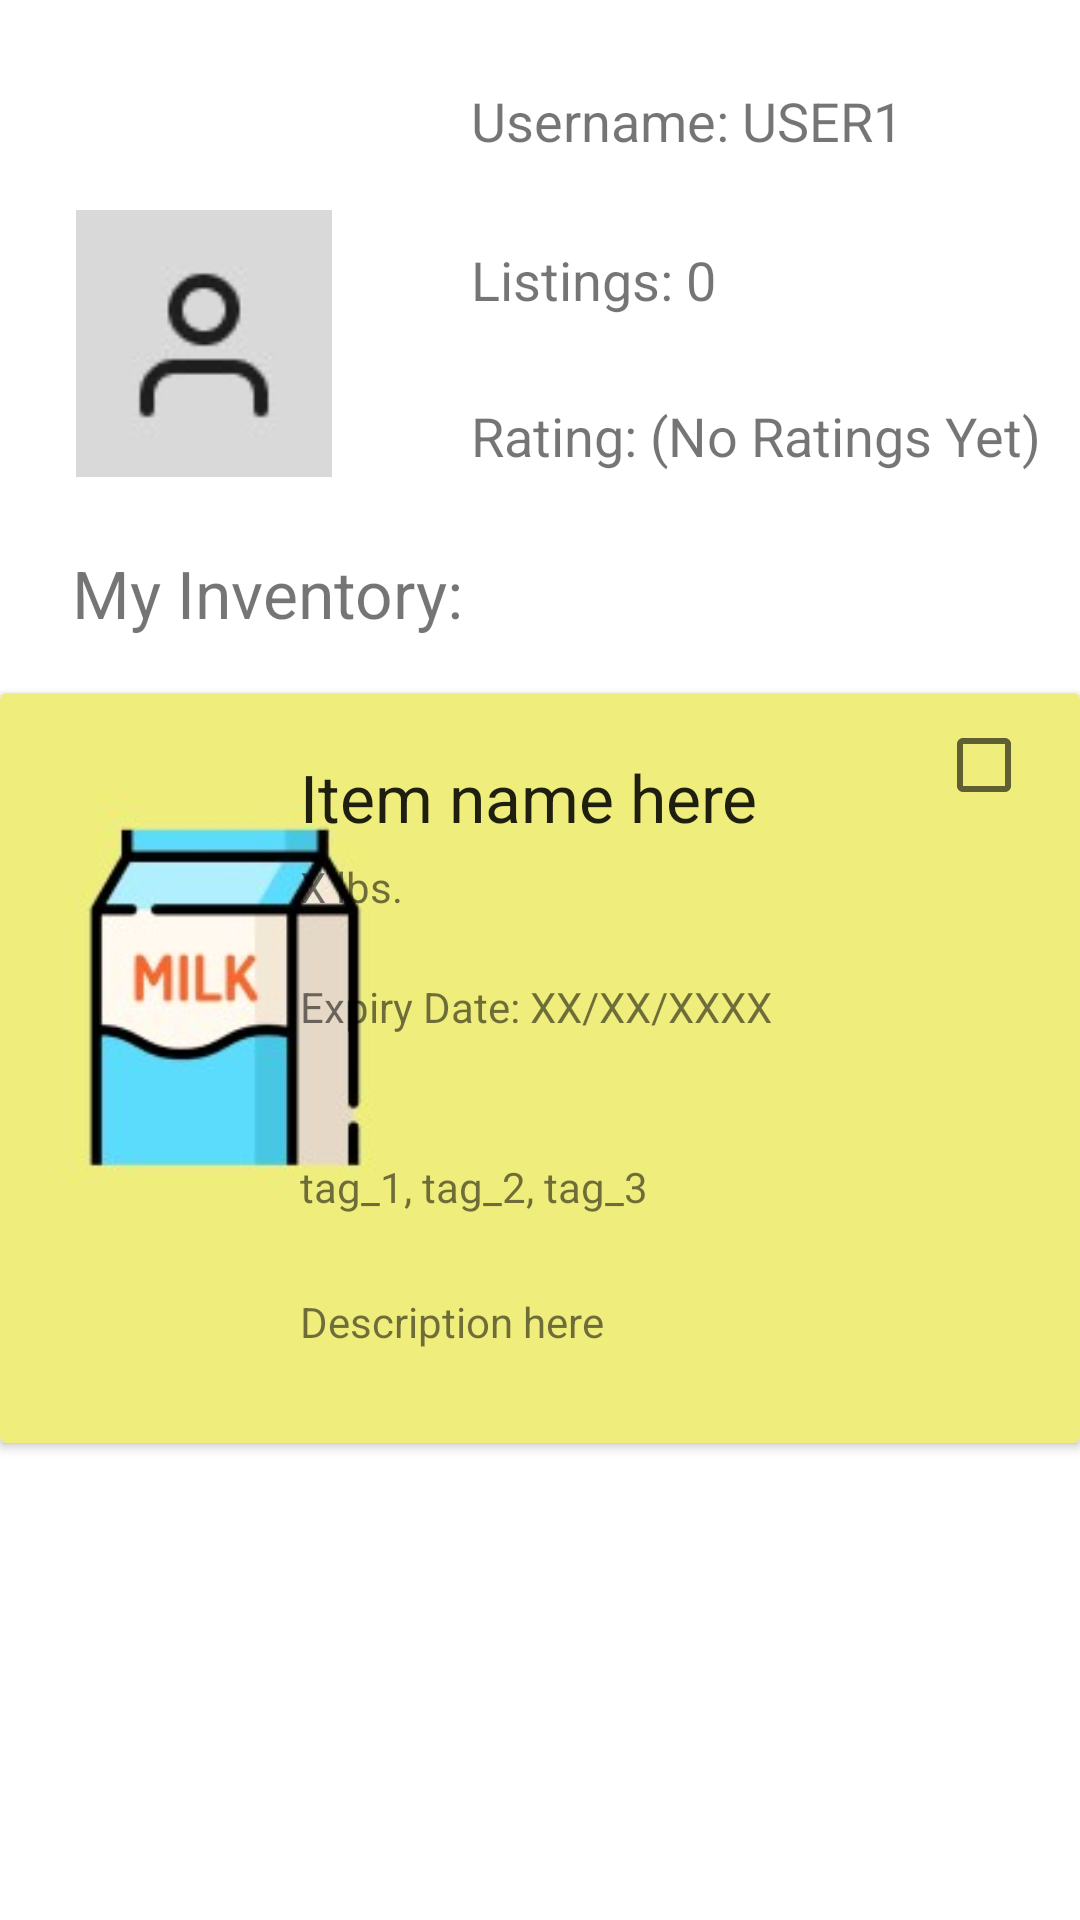

Icons on this 1080 × 1920 Android screen, each with the point to tap as (x=x, y=y):
profilepic: (x=204, y=343)
